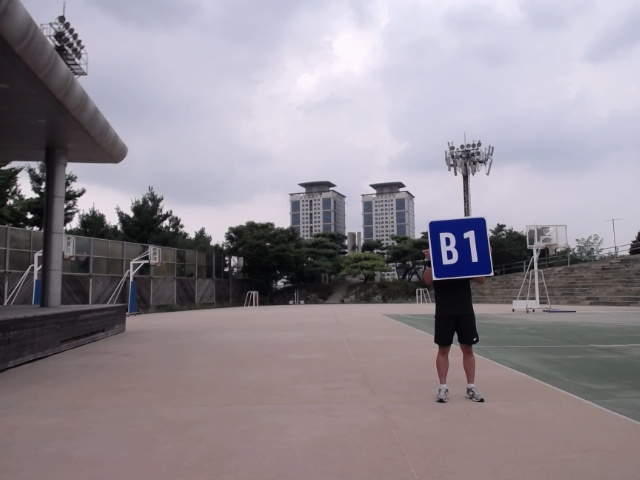delivery_b1: (427, 216, 493, 279)
